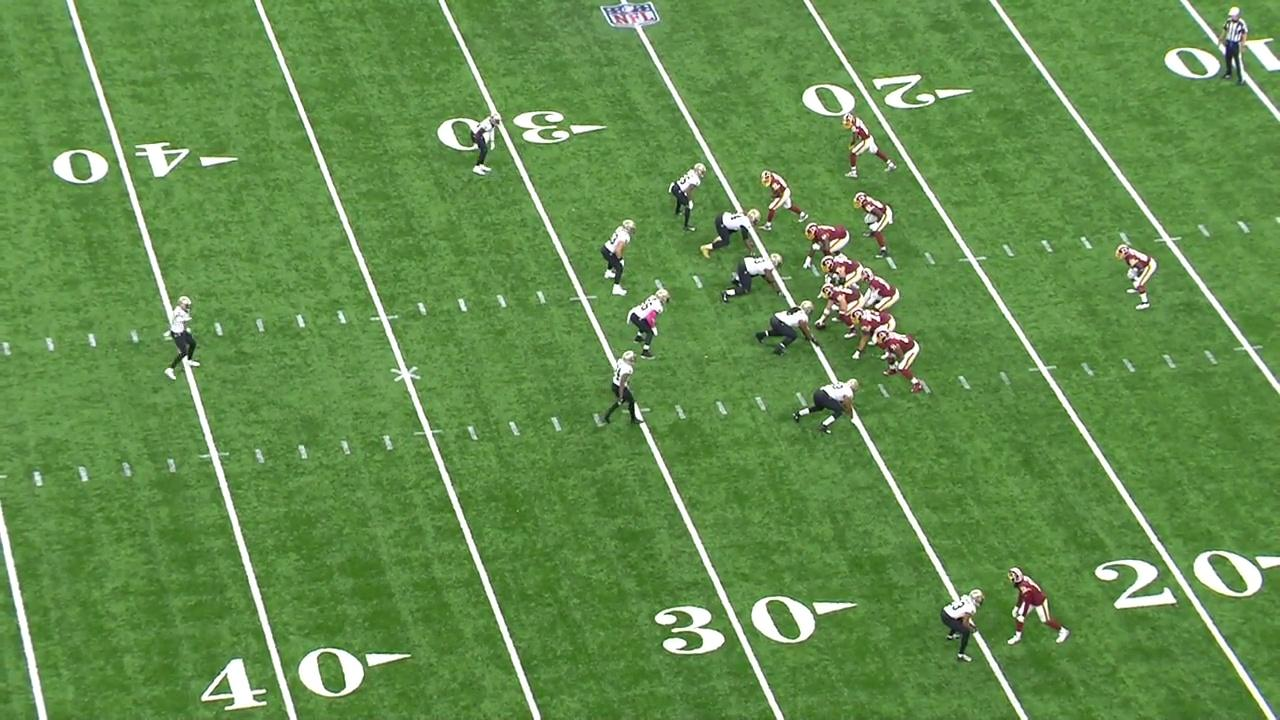player: (1002, 565, 1070, 651), (786, 375, 865, 438), (161, 295, 200, 391), (841, 112, 896, 180), (941, 586, 985, 664), (759, 297, 815, 356), (700, 209, 763, 261), (878, 330, 927, 396), (630, 288, 674, 359), (600, 217, 639, 297), (1116, 242, 1156, 315), (726, 253, 784, 303), (757, 171, 807, 229), (854, 191, 896, 258), (602, 349, 635, 432), (469, 108, 506, 181), (672, 163, 710, 232), (801, 222, 853, 269), (849, 307, 894, 360), (811, 286, 862, 329), (818, 258, 862, 300), (859, 268, 898, 315), (898, 273, 898, 273)
ref: (1215, 1, 1249, 93)
